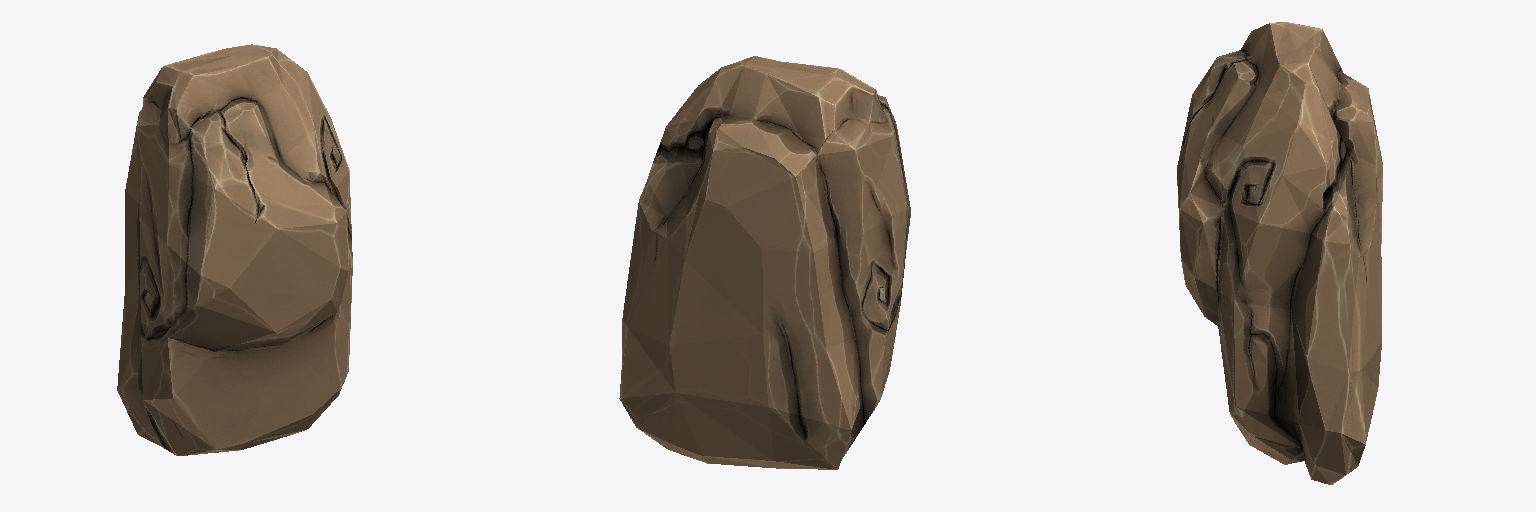
3 renders of one model, left to right at view 1: azimuth 30°, elevation 25°; view 2: azimuth 150°, elevation 25°; view 3: azimuth 270°, elevation 25°, orthographic.
Parts seen in each view (by area): view 1: Object.1; view 2: Object.1; view 3: Object.1.
Part boxes in pixels (x1,y1,x2,y2): Object.1: (117, 44, 352, 455); Object.1: (619, 56, 910, 469); Object.1: (1177, 22, 1382, 484).
Bounding box in the file's own units: 53.73 × 88.59 × 41.41.
1 materials, 1 textured.